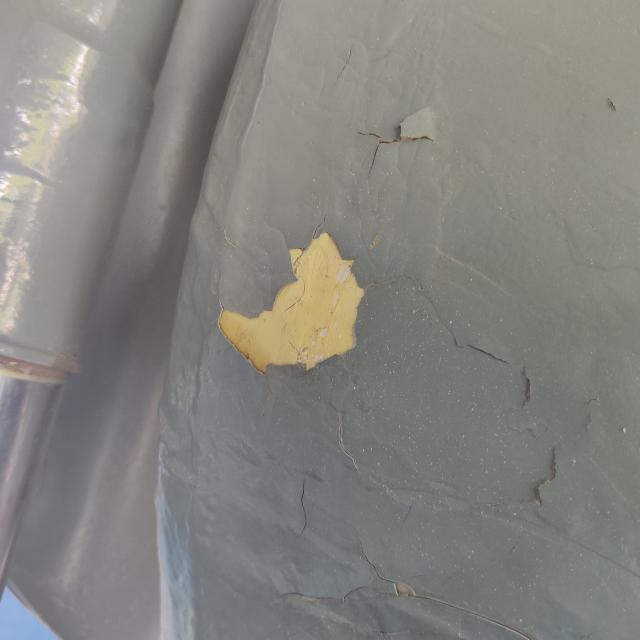paint-off: (201, 211, 388, 412), (343, 89, 452, 190)
